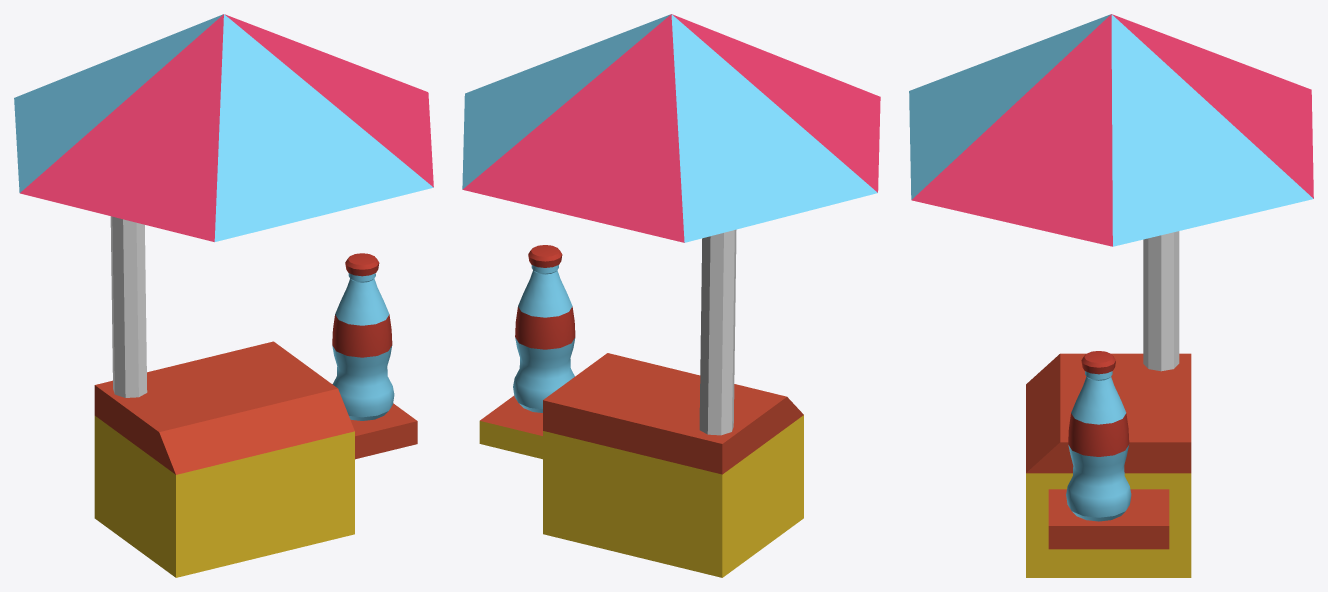
The model's file is candyshop01_s03.FBX.
3 views of the same model, side by side, from view 1: azimuth 30°, elevation 25°; view 2: azimuth 150°, elevation 25°; view 3: azimuth 270°, elevation 25° (orthographic).
Visible parts, largest first — view 1: candyshop01_s03; view 2: candyshop01_s03; view 3: candyshop01_s03.
Boxes of the visible parts, x1=… form: candyshop01_s03: x1=14, y1=14, x2=433, y2=577; candyshop01_s03: x1=462, y1=14, x2=880, y2=577; candyshop01_s03: x1=909, y1=14, x2=1313, y2=577.
Bounding box in the file's own units: 322 × 270 × 383.
1 material, 1 textured.
